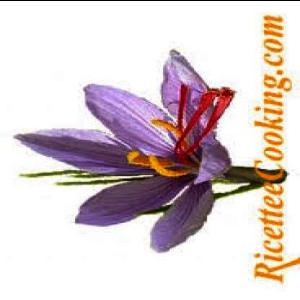Saffron: (16, 51, 248, 250)
